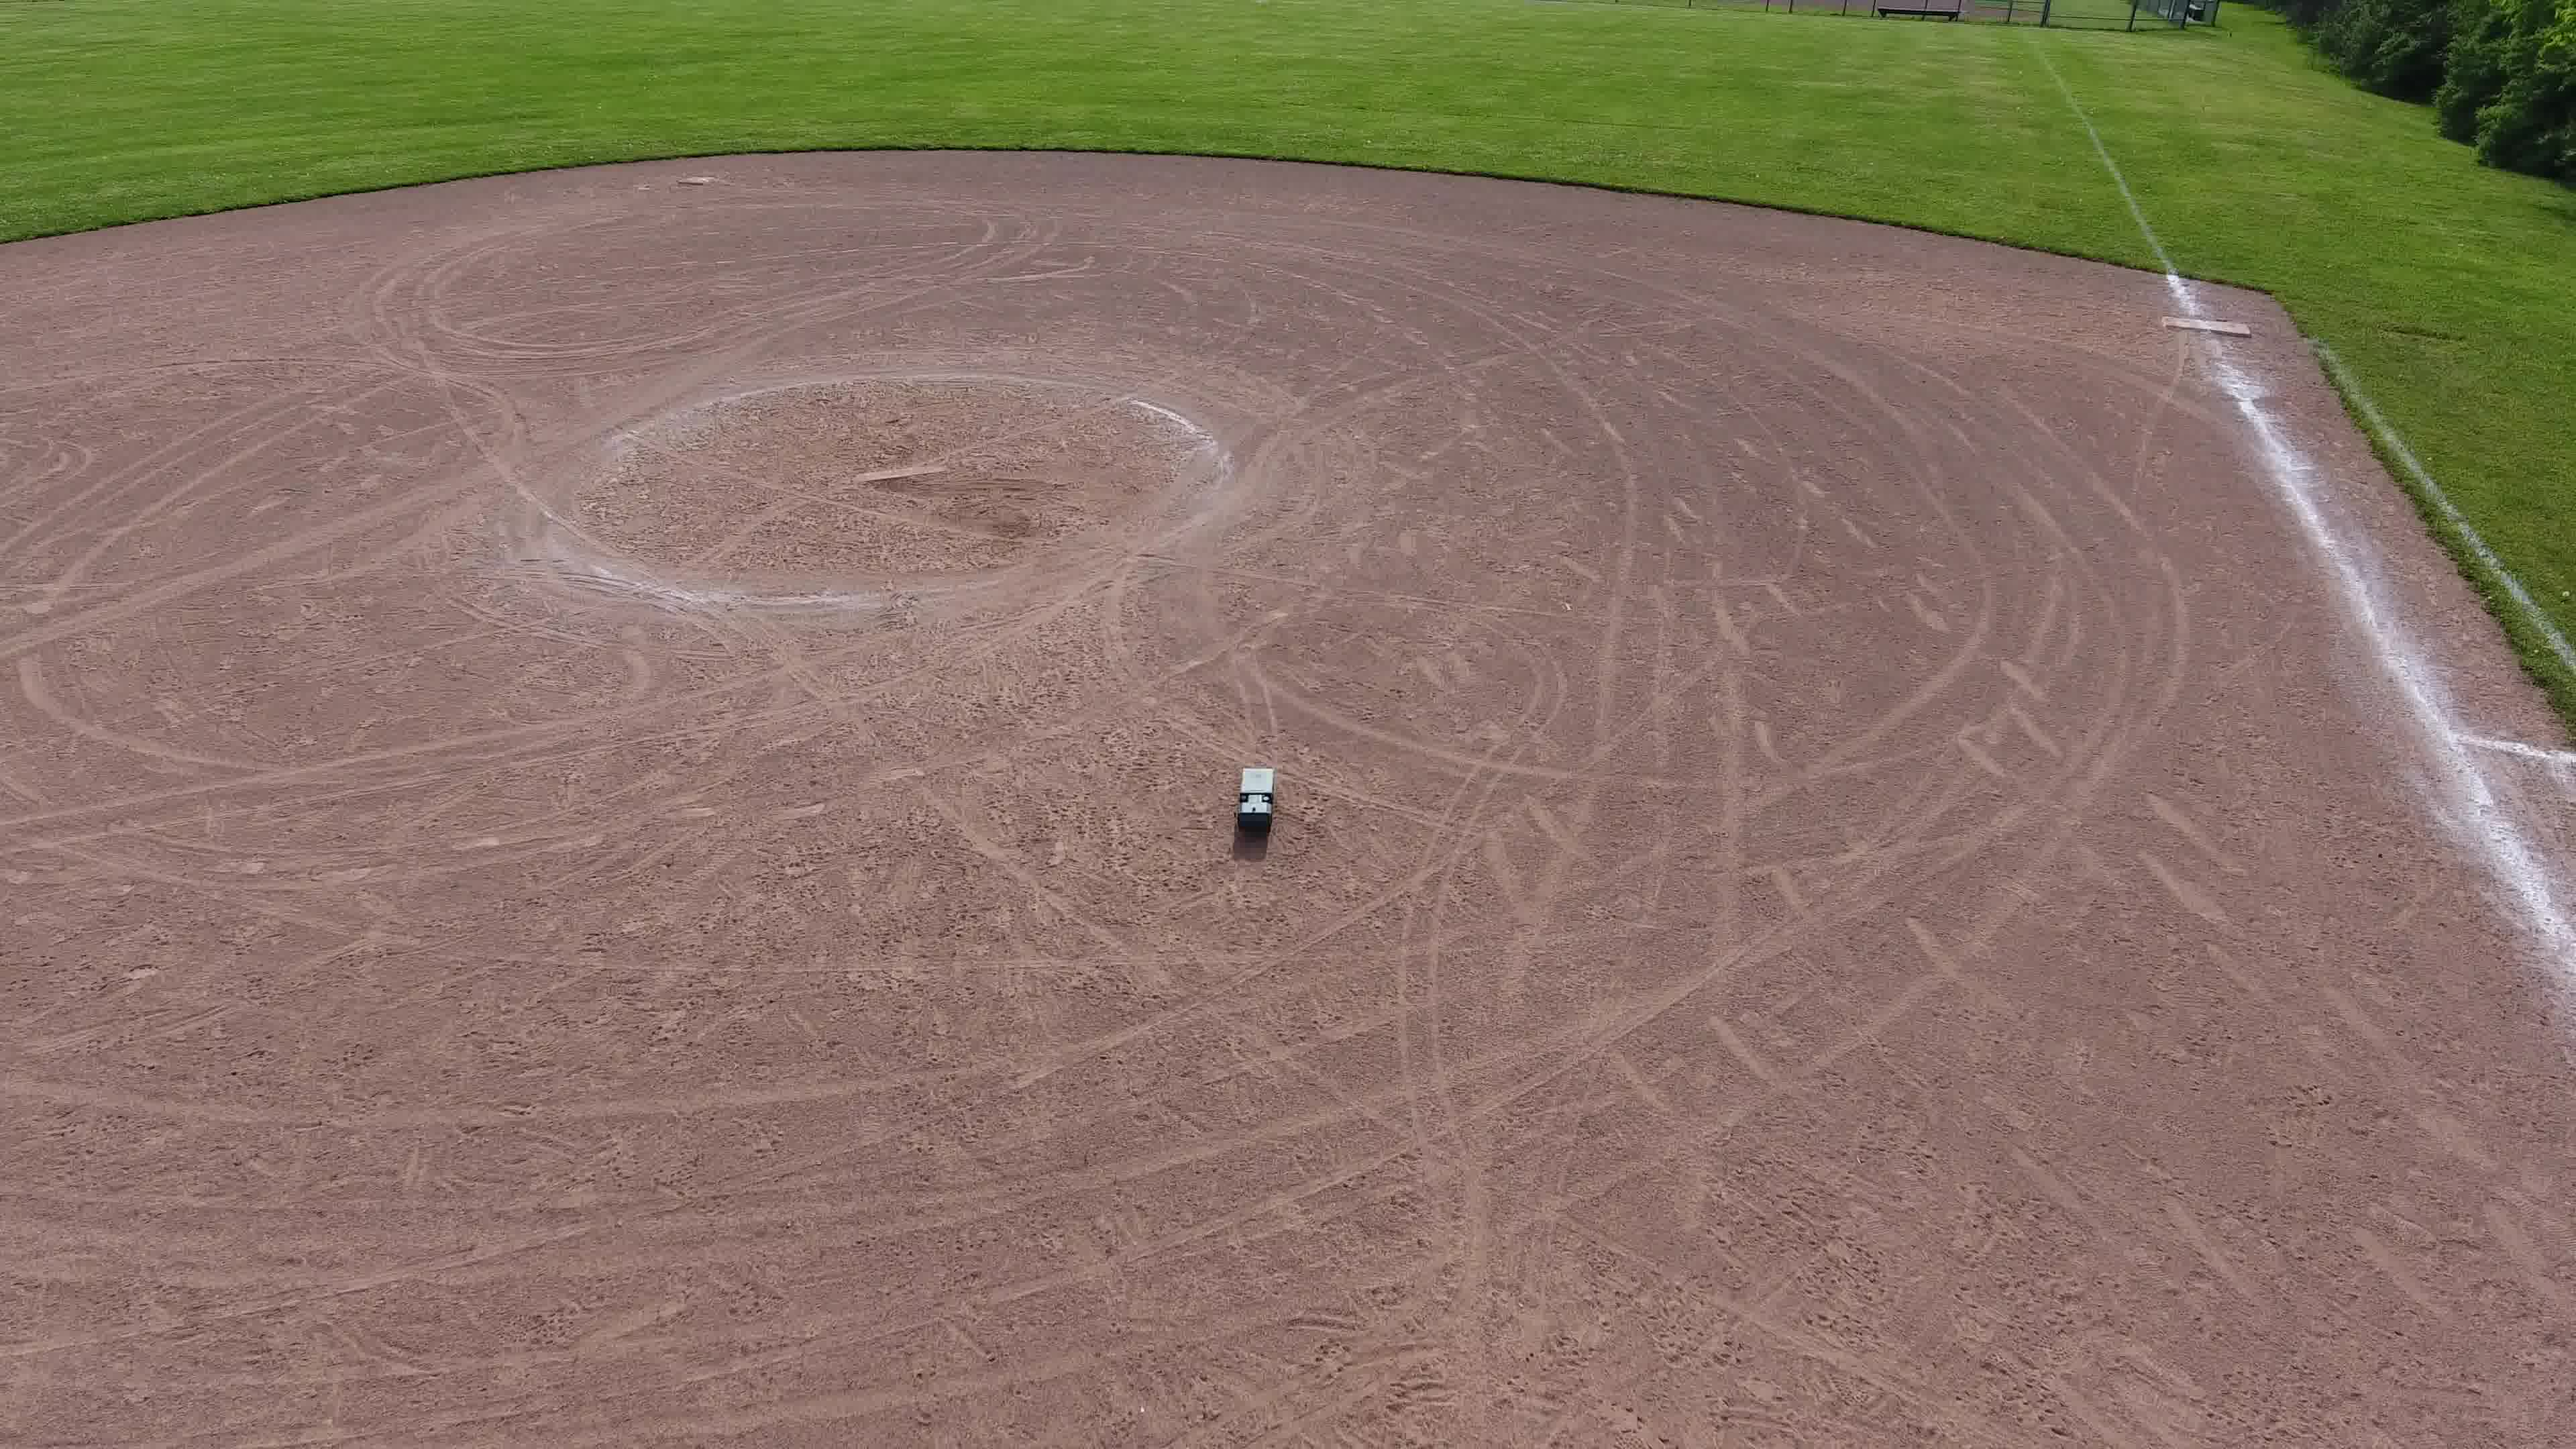transporter9: (1230, 761, 1283, 837)
